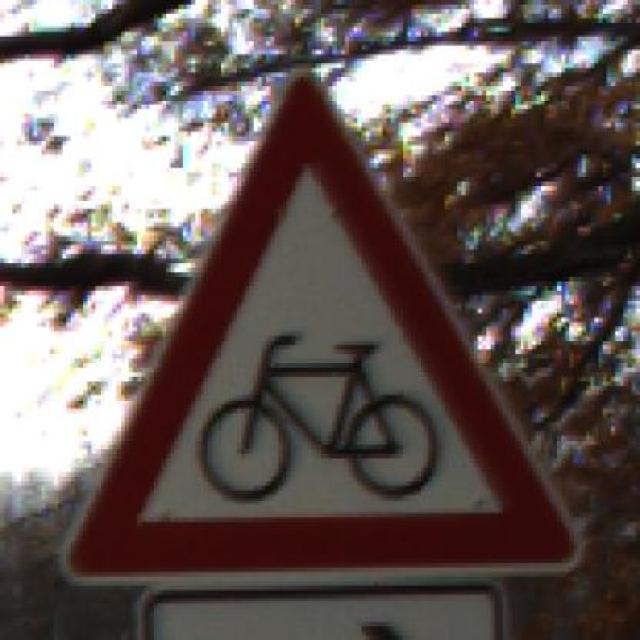CYCLE ROUTE AHEAD WARNING: (50, 63, 590, 586)
